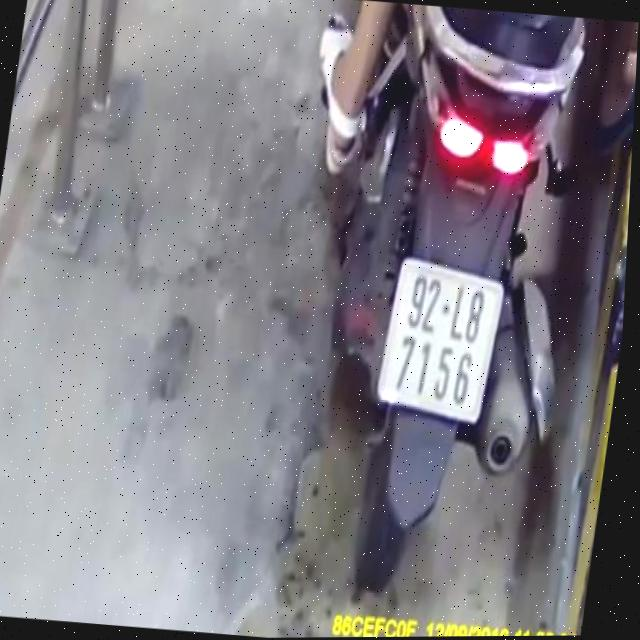motorcycle: (298, 0, 616, 626)
plate: (370, 251, 509, 429)
